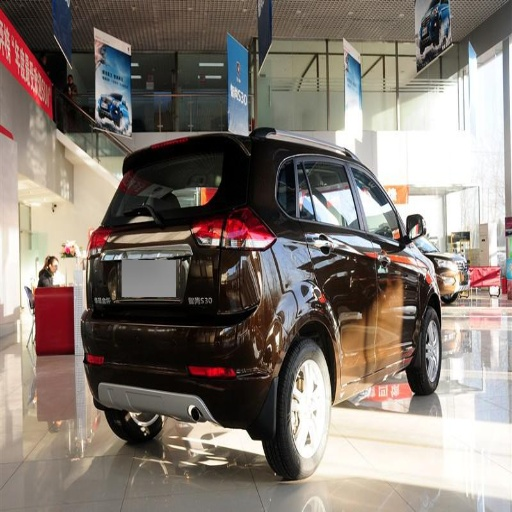back_bumper: (83, 250, 287, 418)
back_right_door: (301, 153, 380, 381)
trunk: (91, 220, 222, 340)
